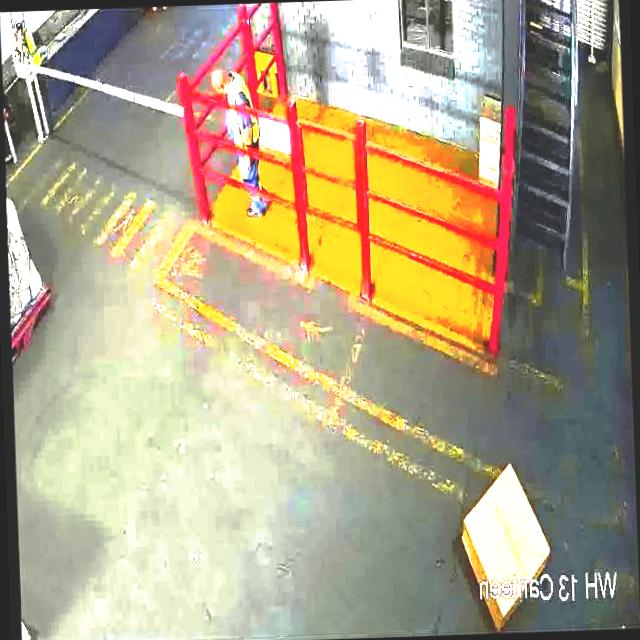Box: (458, 452, 557, 620)
